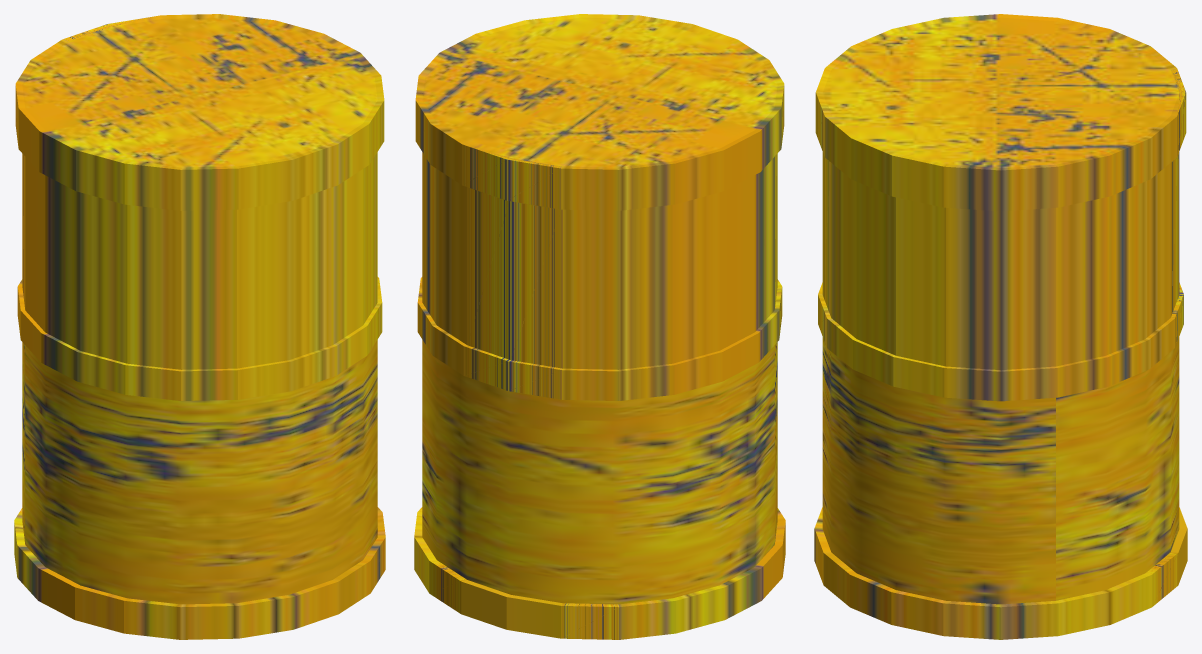
Rendered from Barrel.fbx.
The picture shows the model from 3 angles, left to right: view 1: azimuth 30°, elevation 25°; view 2: azimuth 150°, elevation 25°; view 3: azimuth 270°, elevation 25°; orthographic projection.
Parts seen in each view (by area): view 1: Barrel__container; view 2: Barrel__container; view 3: Barrel__container.
Part boxes in pixels (x1,y1,x2,y2): Barrel__container: (14, 14, 385, 639); Barrel__container: (414, 14, 785, 639); Barrel__container: (814, 14, 1187, 639).
Bounding box in the file's own units: 185 × 257 × 185.
